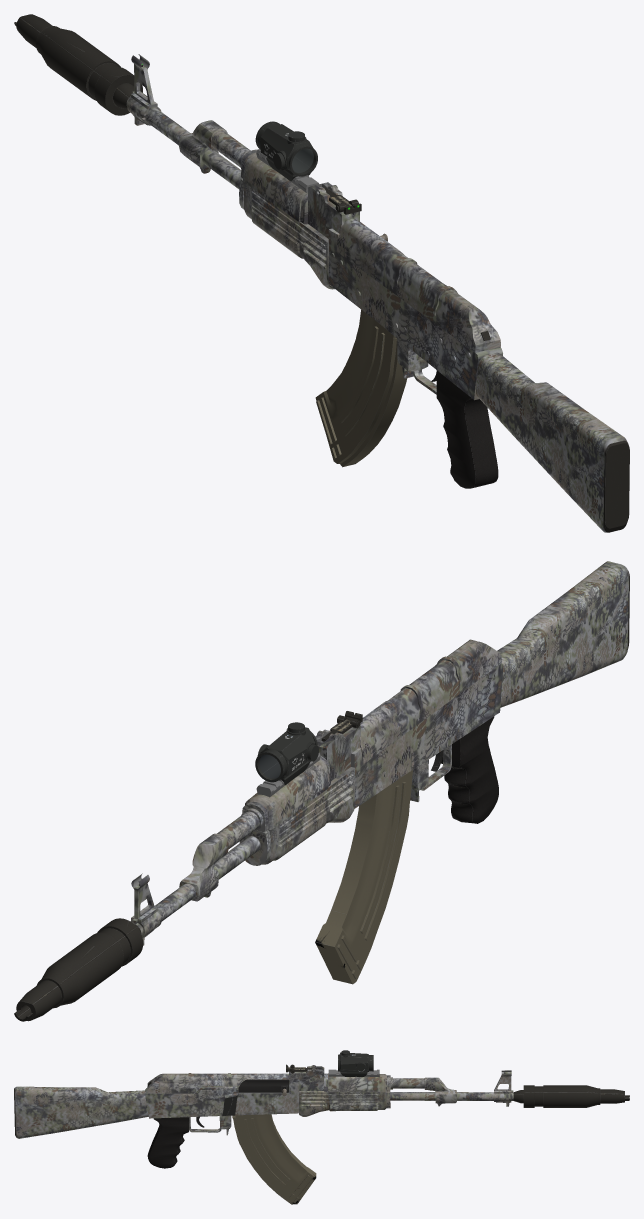
The model's file is akm_kryptek.glb.
3 views of the same model, one above another, from view 1: azimuth 30°, elevation 25°; view 2: azimuth 150°, elevation 25°; view 3: azimuth 270°, elevation 25° (orthographic). The views are drawn at different scales.
Visible parts, largest first — view 1: AKM body_10, magazine_1, PBS 04 suppresor_2, grip_0, PKU 2 rds_6; view 2: AKM body_10, magazine_1, PBS 04 suppresor_2, grip_0, PKU 2 rds_6; view 3: AKM body_10, magazine_1, PBS 04 suppresor_2, grip_0, PKU 2 rds_6, safety switch_7, slide_8.
Boxes of the visible parts, box(x1,y1,x2,y2) form: AKM body_10: box(126, 54, 629, 532); magazine_1: box(315, 309, 407, 467); PBS 04 suppresor_2: box(14, 14, 142, 115); grip_0: box(436, 370, 498, 488); PKU 2 rds_6: box(255, 121, 317, 181); AKM body_10: box(130, 561, 629, 945); magazine_1: box(315, 770, 412, 984); PBS 04 suppresor_2: box(14, 918, 143, 1021); grip_0: box(441, 716, 498, 823); PKU 2 rds_6: box(255, 722, 318, 785); AKM body_10: box(14, 1064, 513, 1138); magazine_1: box(232, 1114, 316, 1204); PBS 04 suppresor_2: box(513, 1085, 629, 1107); grip_0: box(147, 1117, 189, 1168); PKU 2 rds_6: box(338, 1050, 373, 1076); safety switch_7: box(177, 1086, 238, 1106); slide_8: box(238, 1079, 289, 1096).
Size of the model in its own units: 0.5553 by 3.13 by 11.56.
5 materials, 3 textured.
